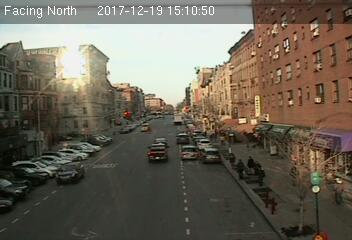car: (55, 161, 85, 183), (146, 144, 167, 160), (201, 147, 221, 162), (180, 145, 198, 160), (154, 138, 168, 148), (176, 134, 189, 144)
